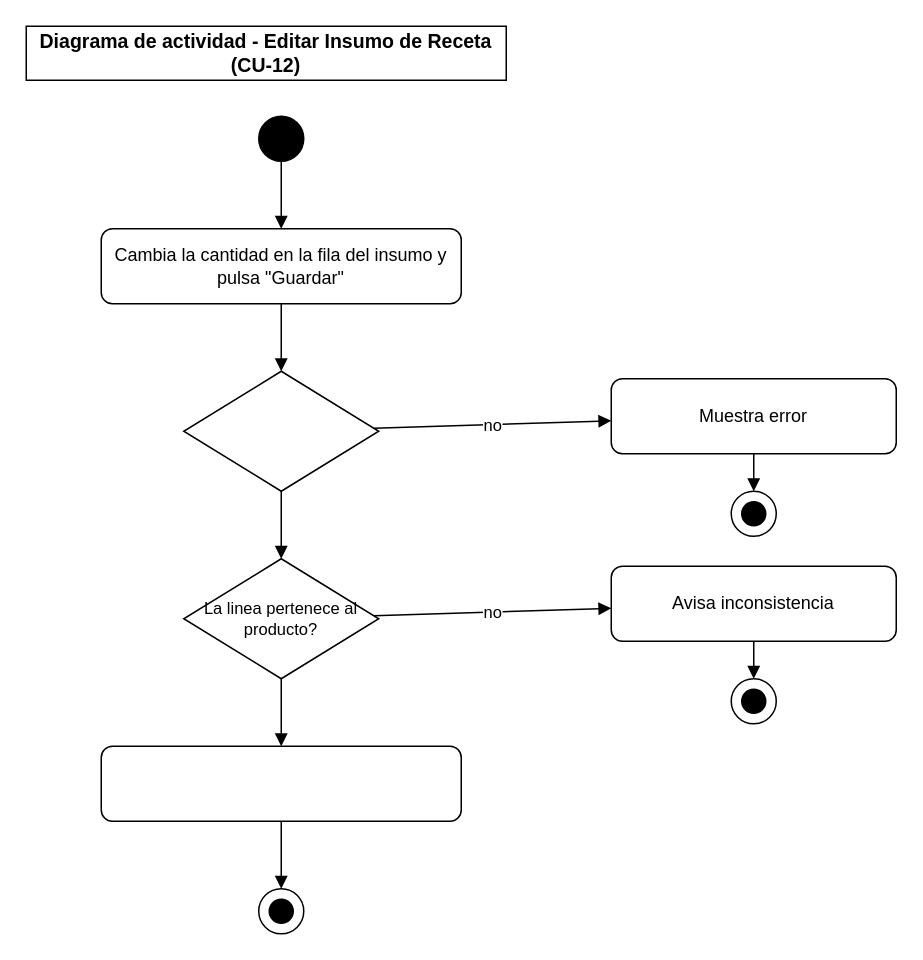
Image size: 923x960. Some labels were removed from this diagram. The centre of each missing label's shape, as x and y in pixels:
Actualiza la cantidad de consumo: the point at 280,783
Cantidad > 0?: the point at 280,430
